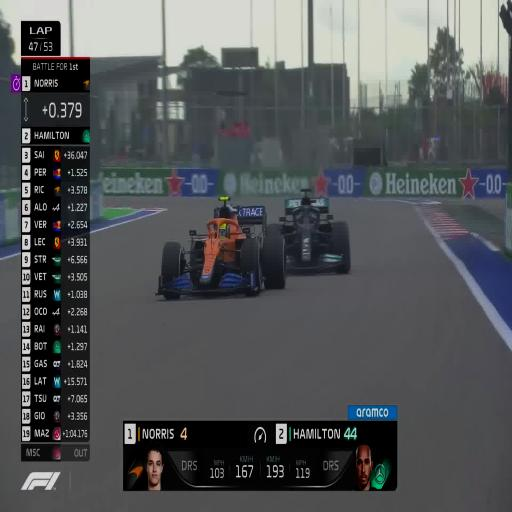f1_car: (156, 197, 285, 299), (267, 189, 350, 273)
